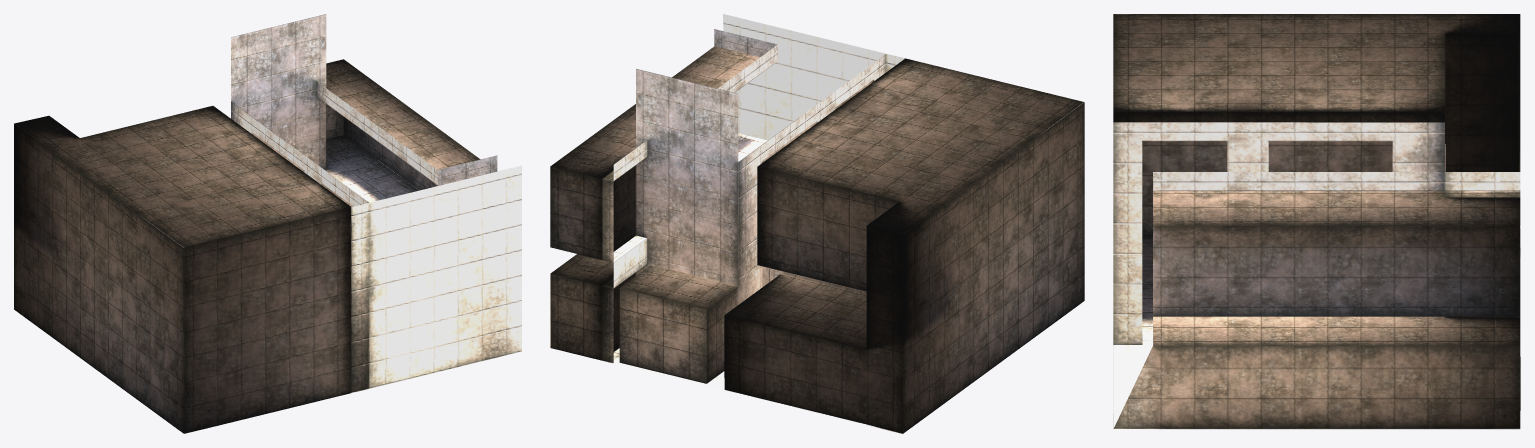
Rendered from BrutalistInterior.glb.
3 renders of one model, left to right at view 1: azimuth 30°, elevation 25°; view 2: azimuth 150°, elevation 25°; view 3: azimuth 270°, elevation 25°, orthographic. The views are drawn at different scales.
Visible parts, largest first — view 1: Plane.001_0; view 2: Plane.001_0; view 3: Plane.001_0.
Part boxes in pixels (x1,y1,x2,y2): Plane.001_0: (14, 14, 521, 433); Plane.001_0: (550, 14, 1084, 433); Plane.001_0: (1113, 14, 1520, 429).
Size of the model in its own units: 12 by 8.5 by 10.46.
1 material, 1 textured.
